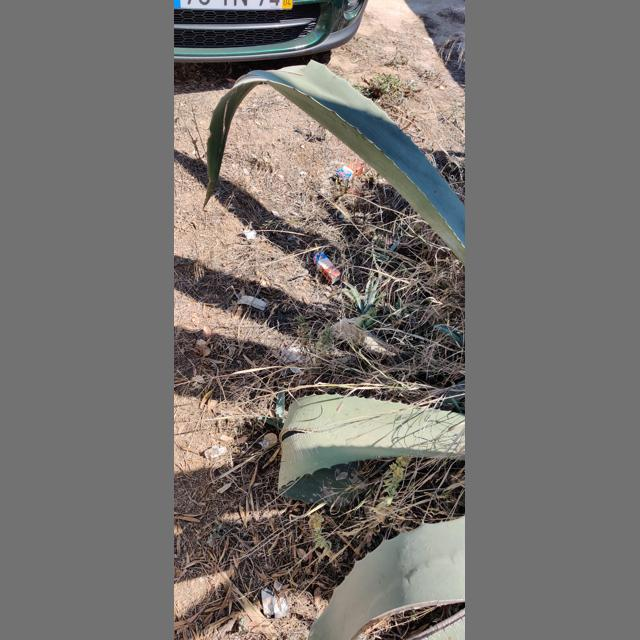litter: (312, 249, 342, 284), (333, 159, 366, 184), (238, 295, 266, 310), (272, 594, 287, 619), (262, 588, 275, 616), (204, 445, 228, 459), (341, 186, 361, 198), (244, 230, 256, 239), (315, 243, 320, 252)
